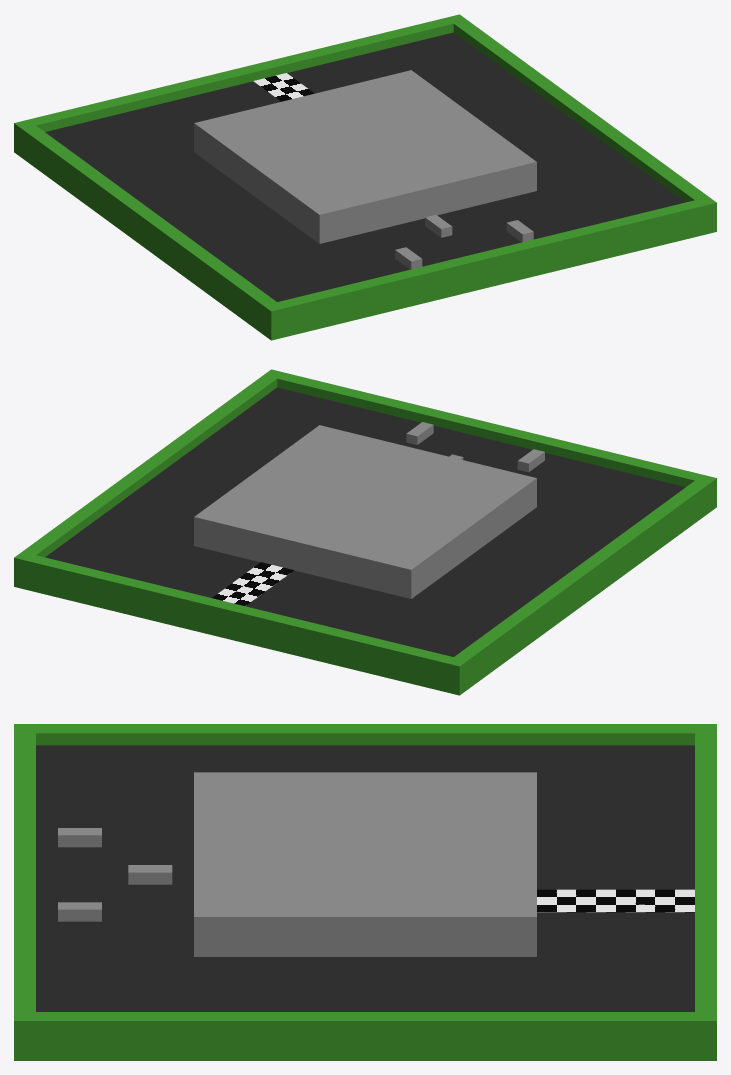
The model's file is track.gltf.
3 renders of one model, top to bottom at view 1: azimuth 30°, elevation 25°; view 2: azimuth 150°, elevation 25°; view 3: azimuth 270°, elevation 25°, orthographic. The views are drawn at different scales.
Parts seen in each view (by area): view 1: a9a7b4df-53ed-0bf4-582d-68440b4eaa73, c0801b12-7da5-48b4-eb2d-06807ebe8e7f, 0a698093-20cc-dfcd-aeb1-2f89aa4c8ff4, 383d78f6-094b-507a-6de5-b12eb20162d6, 38726bd4-1003-46b7-772a-c46f6f960ed2, 5234c261-aec2-9f13-19c8-7d76be330461, 0d8d04f0-f4f5-7c0f-ea23-b2b0a183ccbe; view 2: a9a7b4df-53ed-0bf4-582d-68440b4eaa73, c0801b12-7da5-48b4-eb2d-06807ebe8e7f, 38726bd4-1003-46b7-772a-c46f6f960ed2, 383d78f6-094b-507a-6de5-b12eb20162d6, 0a698093-20cc-dfcd-aeb1-2f89aa4c8ff4, 5234c261-aec2-9f13-19c8-7d76be330461, 0d8d04f0-f4f5-7c0f-ea23-b2b0a183ccbe; view 3: a9a7b4df-53ed-0bf4-582d-68440b4eaa73, c0801b12-7da5-48b4-eb2d-06807ebe8e7f, 5234c261-aec2-9f13-19c8-7d76be330461, 383d78f6-094b-507a-6de5-b12eb20162d6, 0a698093-20cc-dfcd-aeb1-2f89aa4c8ff4, 38726bd4-1003-46b7-772a-c46f6f960ed2, 0d8d04f0-f4f5-7c0f-ea23-b2b0a183ccbe, 48dfa6fe-2a26-5cd6-e731-d0e47157285d, 4f3a1a76-4a74-cb6d-bf19-7303c2b212e8, 44cf6e61-4b19-2b6d-e948-0b05452dcf22.
Part boxes in pixels (x1=…): a9a7b4df-53ed-0bf4-582d-68440b4eaa73: x1=45, y1=32, x2=685, y2=301; c0801b12-7da5-48b4-eb2d-06807ebe8e7f: x1=194, y1=70, x2=536, y2=243; 0a698093-20cc-dfcd-aeb1-2f89aa4c8ff4: x1=263, y1=197, x2=716, y2=340; 383d78f6-094b-507a-6de5-b12eb20162d6: x1=14, y1=120, x2=285, y2=339; 38726bd4-1003-46b7-772a-c46f6f960ed2: x1=14, y1=15, x2=464, y2=157; 5234c261-aec2-9f13-19c8-7d76be330461: x1=446, y1=14, x2=716, y2=235; 0d8d04f0-f4f5-7c0f-ea23-b2b0a183ccbe: x1=253, y1=73, x2=314, y2=101; a9a7b4df-53ed-0bf4-582d-68440b4eaa73: x1=45, y1=387, x2=685, y2=656; c0801b12-7da5-48b4-eb2d-06807ebe8e7f: x1=194, y1=425, x2=536, y2=598; 38726bd4-1003-46b7-772a-c46f6f960ed2: x1=14, y1=552, x2=467, y2=695; 383d78f6-094b-507a-6de5-b12eb20162d6: x1=445, y1=475, x2=716, y2=695; 0a698093-20cc-dfcd-aeb1-2f89aa4c8ff4: x1=263, y1=369, x2=716, y2=508; 5234c261-aec2-9f13-19c8-7d76be330461: x1=14, y1=370, x2=284, y2=589; 0d8d04f0-f4f5-7c0f-ea23-b2b0a183ccbe: x1=212, y1=562, x2=293, y2=606; a9a7b4df-53ed-0bf4-582d-68440b4eaa73: x1=36, y1=745, x2=694, y2=1011; c0801b12-7da5-48b4-eb2d-06807ebe8e7f: x1=194, y1=772, x2=536, y2=956; 5234c261-aec2-9f13-19c8-7d76be330461: x1=14, y1=1012, x2=716, y2=1060; 383d78f6-094b-507a-6de5-b12eb20162d6: x1=17, y1=724, x2=716, y2=745; 0a698093-20cc-dfcd-aeb1-2f89aa4c8ff4: x1=14, y1=724, x2=35, y2=1060; 38726bd4-1003-46b7-772a-c46f6f960ed2: x1=695, y1=724, x2=716, y2=1060; 0d8d04f0-f4f5-7c0f-ea23-b2b0a183ccbe: x1=537, y1=889, x2=694, y2=912; 48dfa6fe-2a26-5cd6-e731-d0e47157285d: x1=128, y1=865, x2=172, y2=884; 4f3a1a76-4a74-cb6d-bf19-7303c2b212e8: x1=58, y1=828, x2=101, y2=847; 44cf6e61-4b19-2b6d-e948-0b05452dcf22: x1=58, y1=902, x2=101, y2=921.
Size of the model in its own units: 16 by 1.7 by 16.
1 material, 1 textured.
